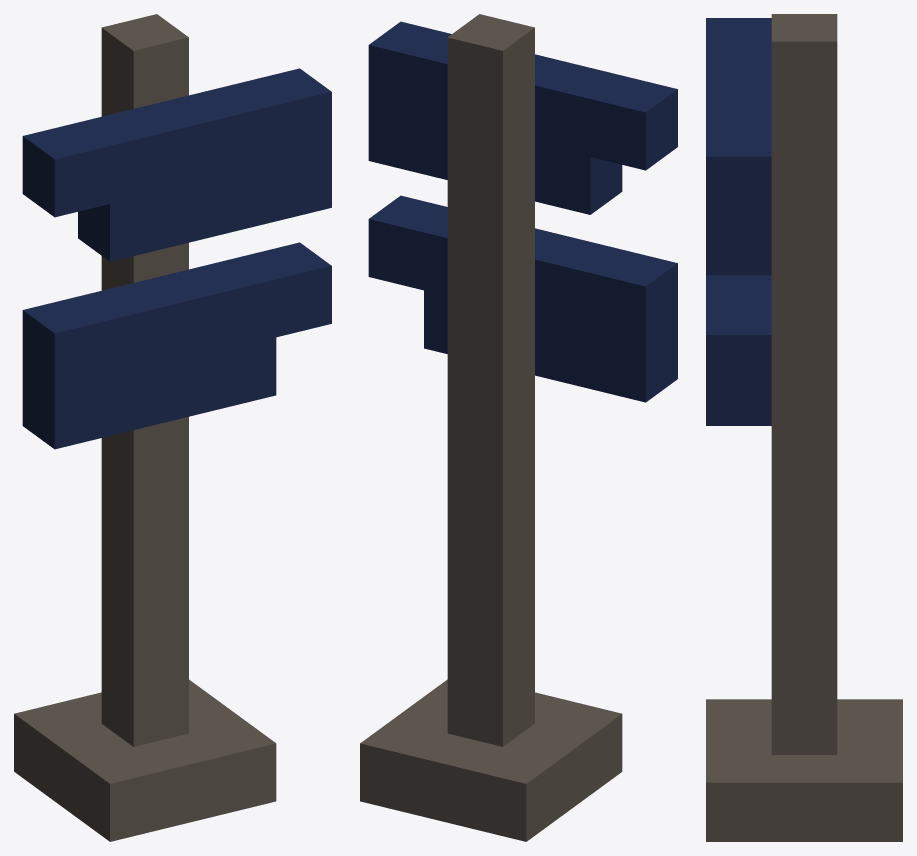
Rendered from direction_sign.obj.
3 renders of one model, left to right at view 1: azimuth 30°, elevation 25°; view 2: azimuth 150°, elevation 25°; view 3: azimuth 270°, elevation 25°, orthographic. The views are drawn at different scales.
Size of the model in its own units: 0.5 by 1.3 by 0.3.
Materials: 1 (1 with a texture image).
